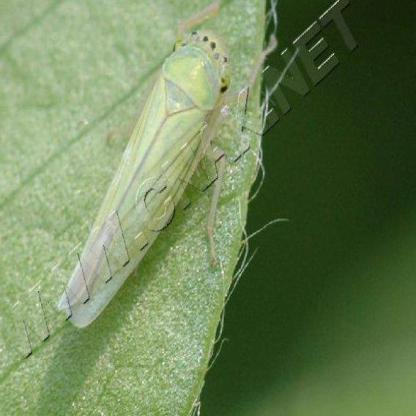Green-Leafhopper: (60, 0, 244, 345)
